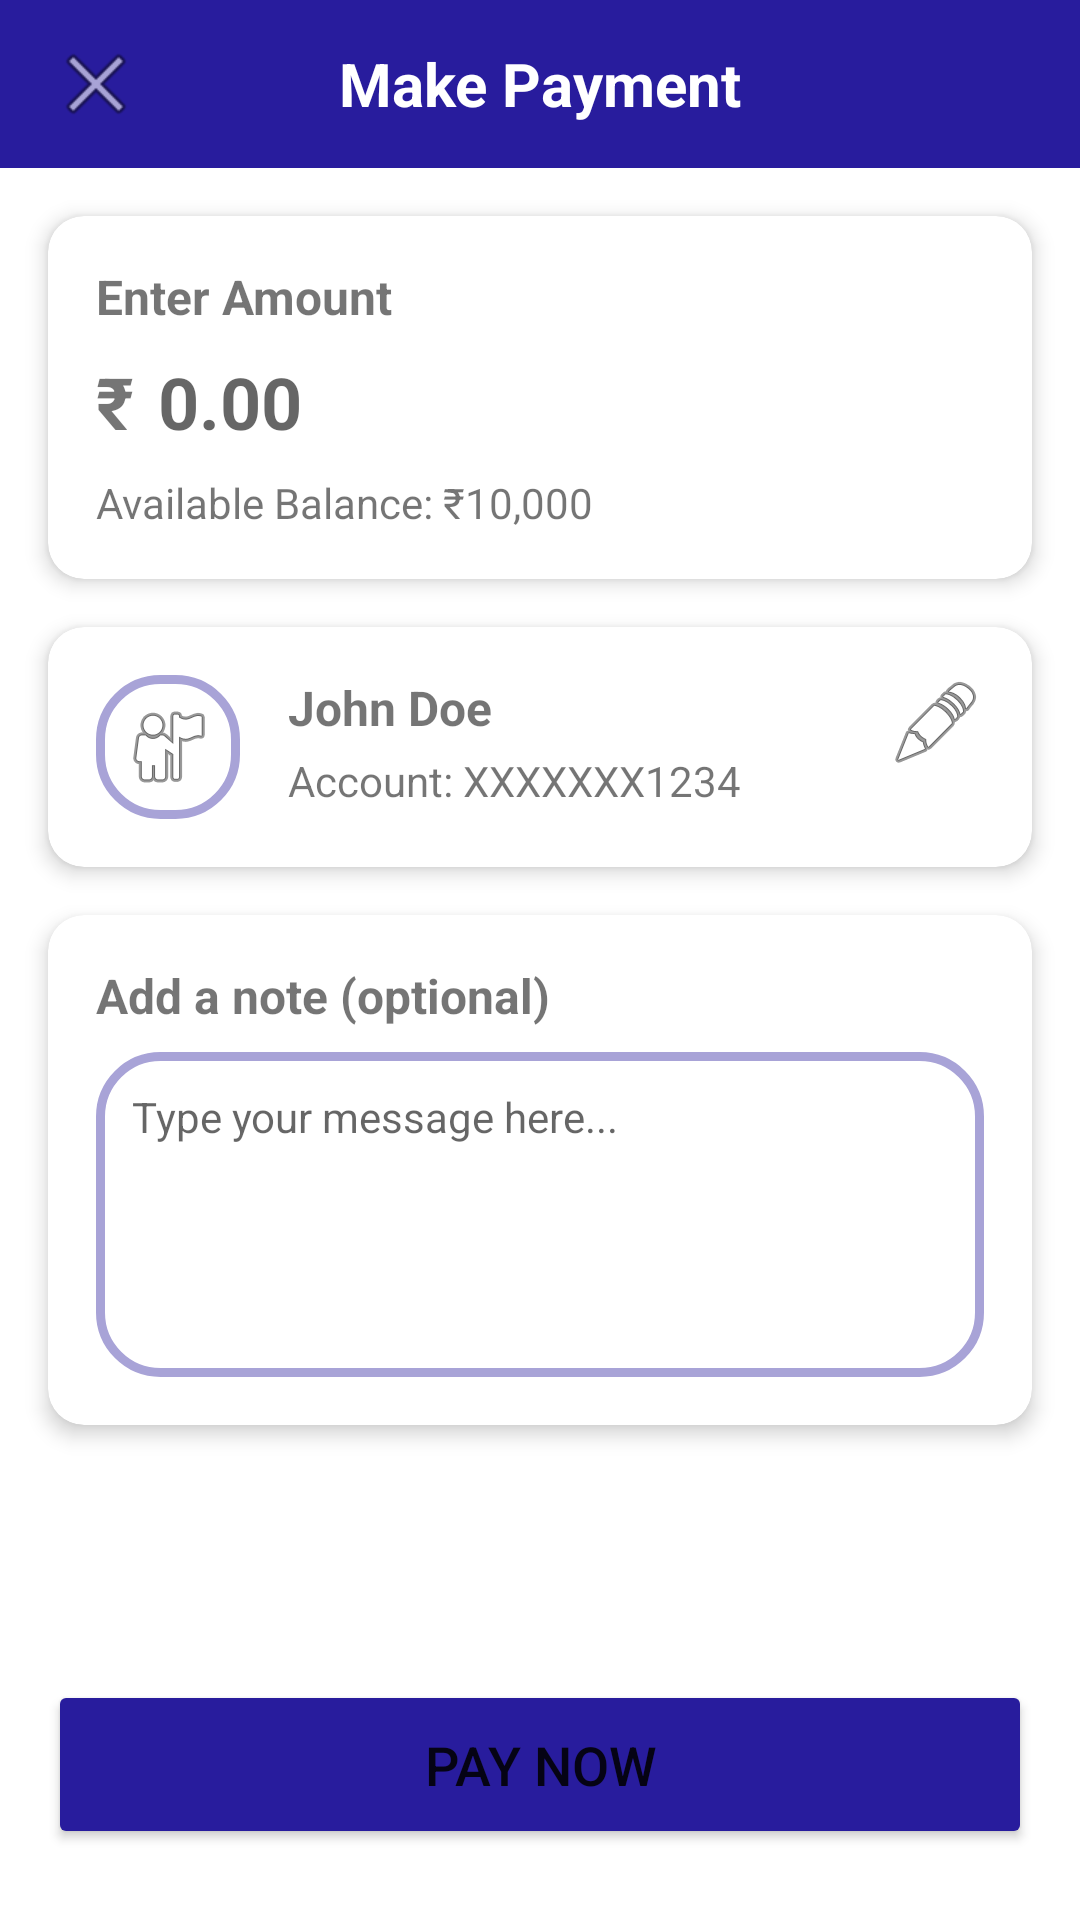

Where to tap for icons on this 1080px×1920px app screen, as (x,y):
Back: (96,84)
Change: (935,722)
Recipient: (168,747)
